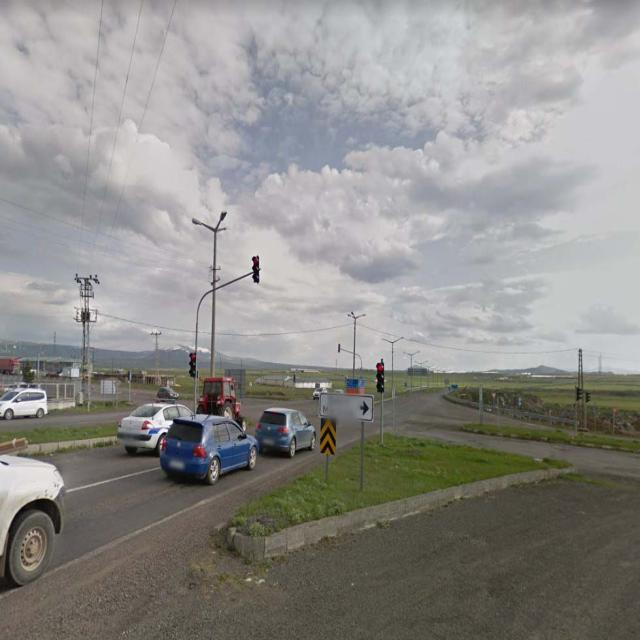kirmizi: (252, 257, 260, 281), (378, 364, 384, 390), (190, 351, 196, 374)
